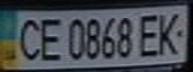0: (63, 15, 84, 61)
6: (100, 15, 121, 61)
8: (115, 12, 139, 60), (81, 15, 103, 61)
C: (12, 15, 45, 63)
E: (33, 15, 66, 62), (136, 11, 163, 58)
K: (151, 8, 190, 56)
